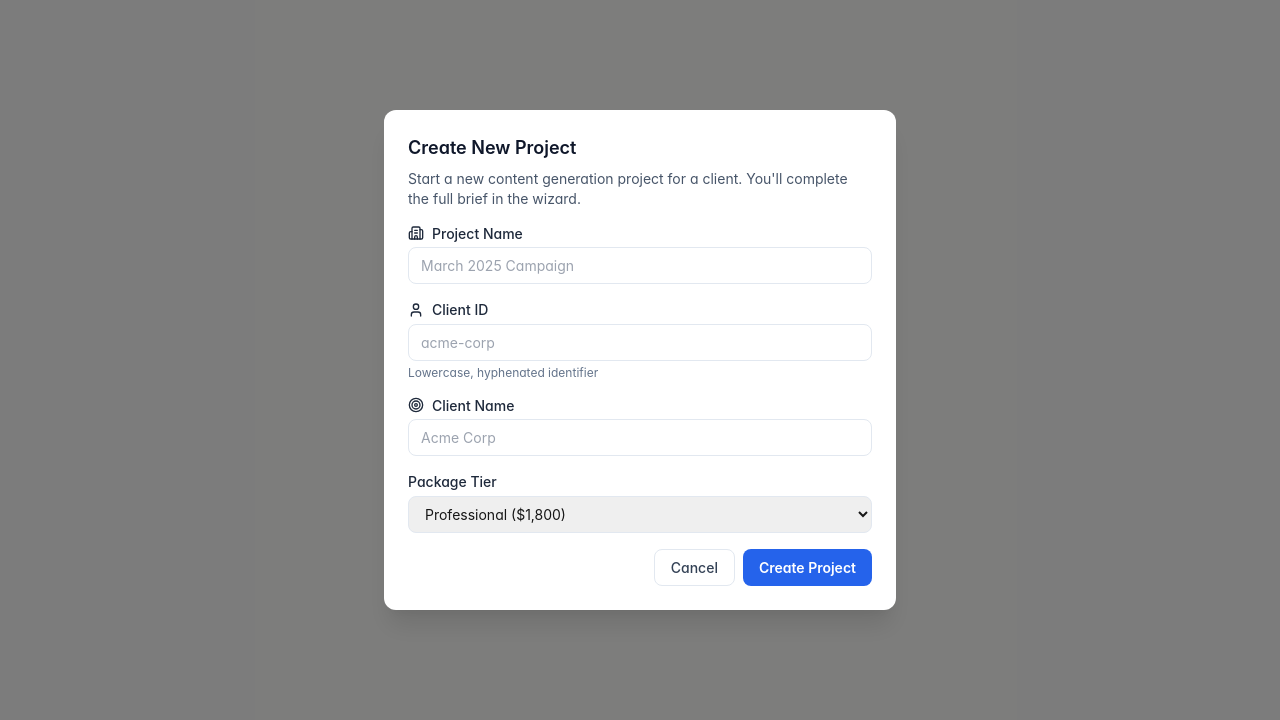
Project Creation Flow › New Project Dialog › should validate required fields on submit
Click the button "Create Project" at (808, 567), box [743,548,872,586]
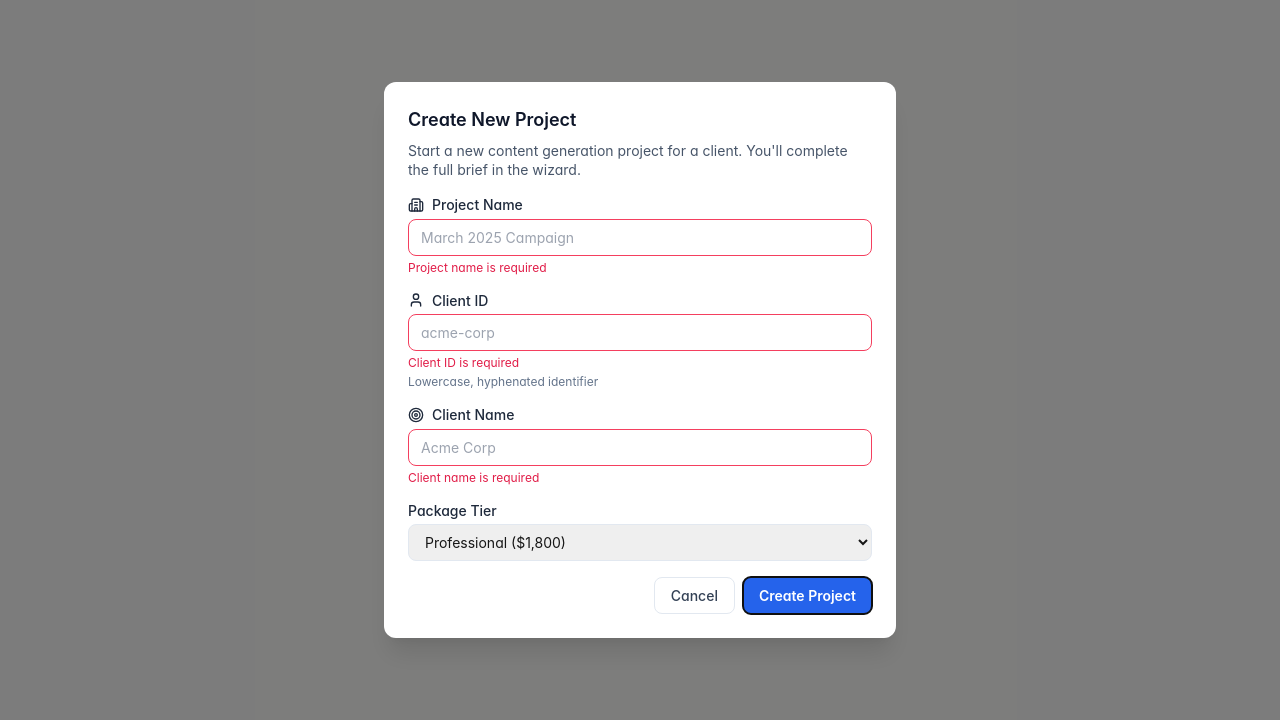
Now the text "Project name is required" is shown, box [408,260,546,275]
